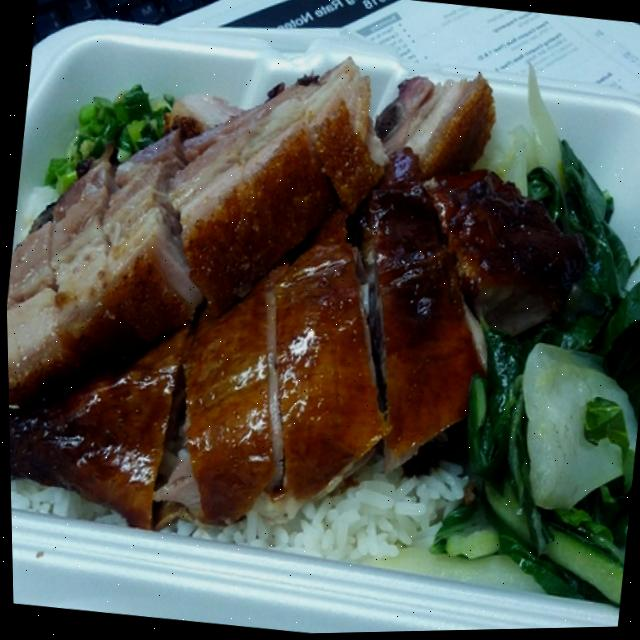米饭主食: (0, 3, 640, 611)
